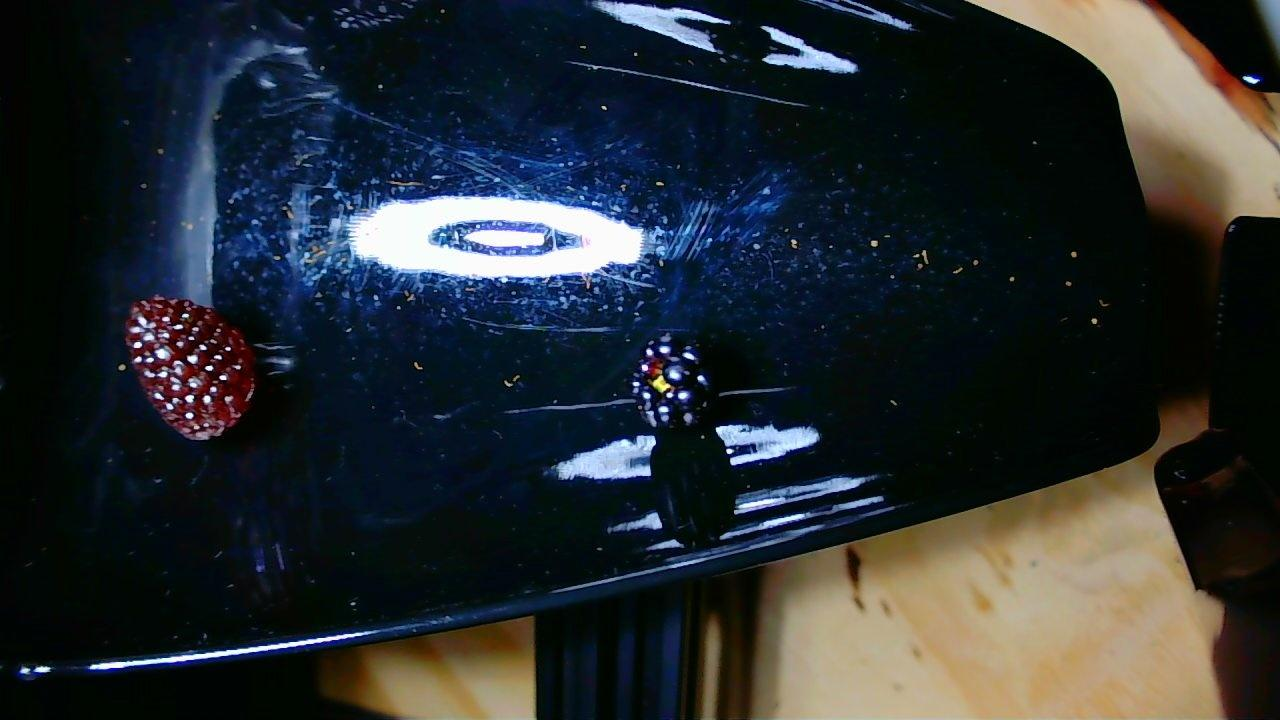berry: (126, 296, 255, 440), (630, 333, 715, 431)
